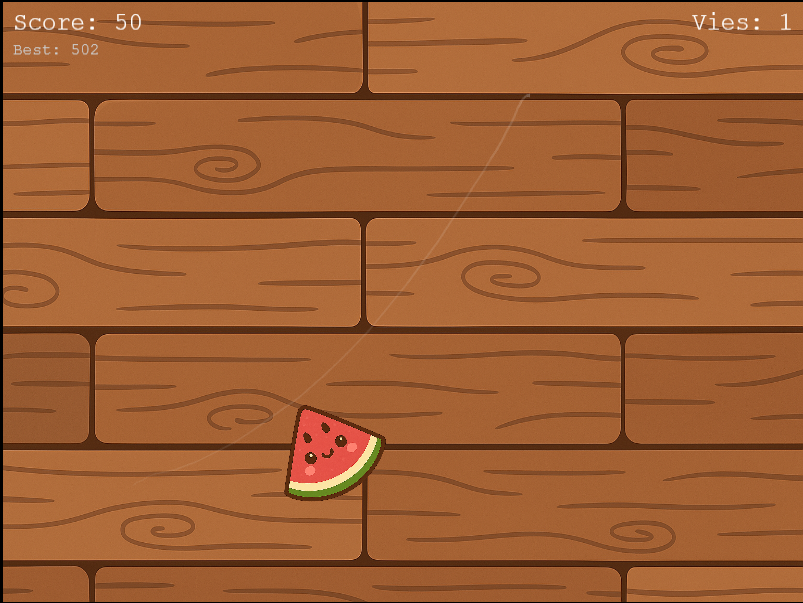fruit: (272, 402, 395, 508)
